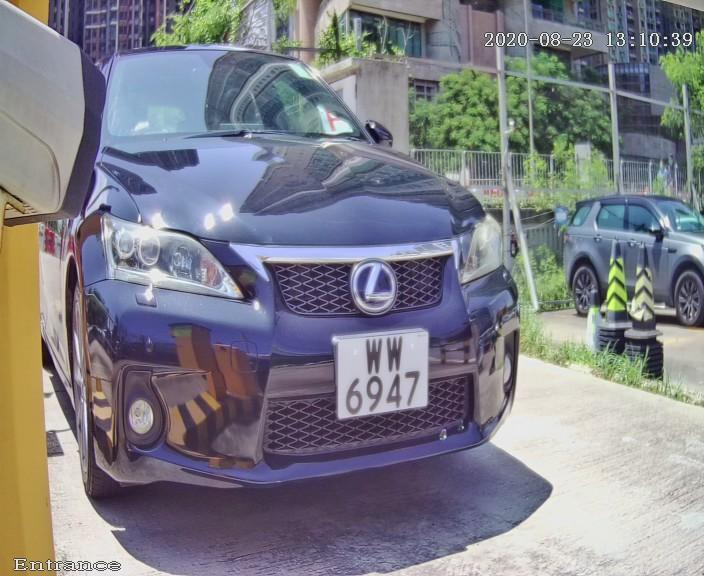Car: (26, 8, 541, 566)
License Plate: (324, 325, 434, 433)
